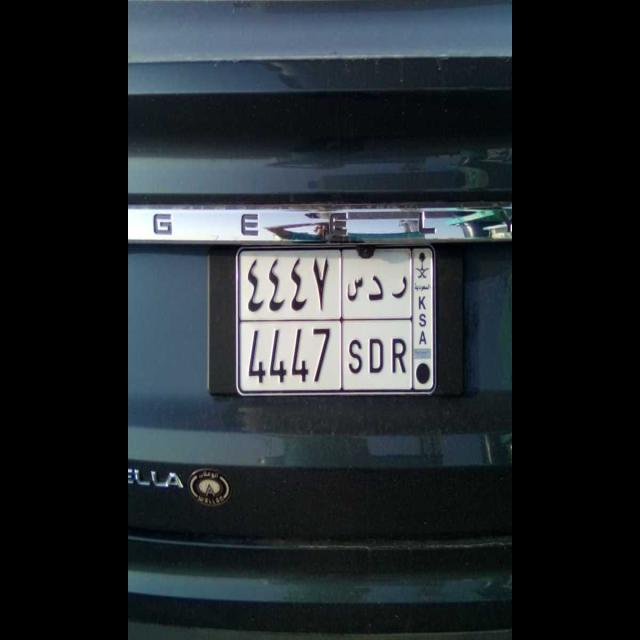license_plate: (239, 317, 415, 395)
